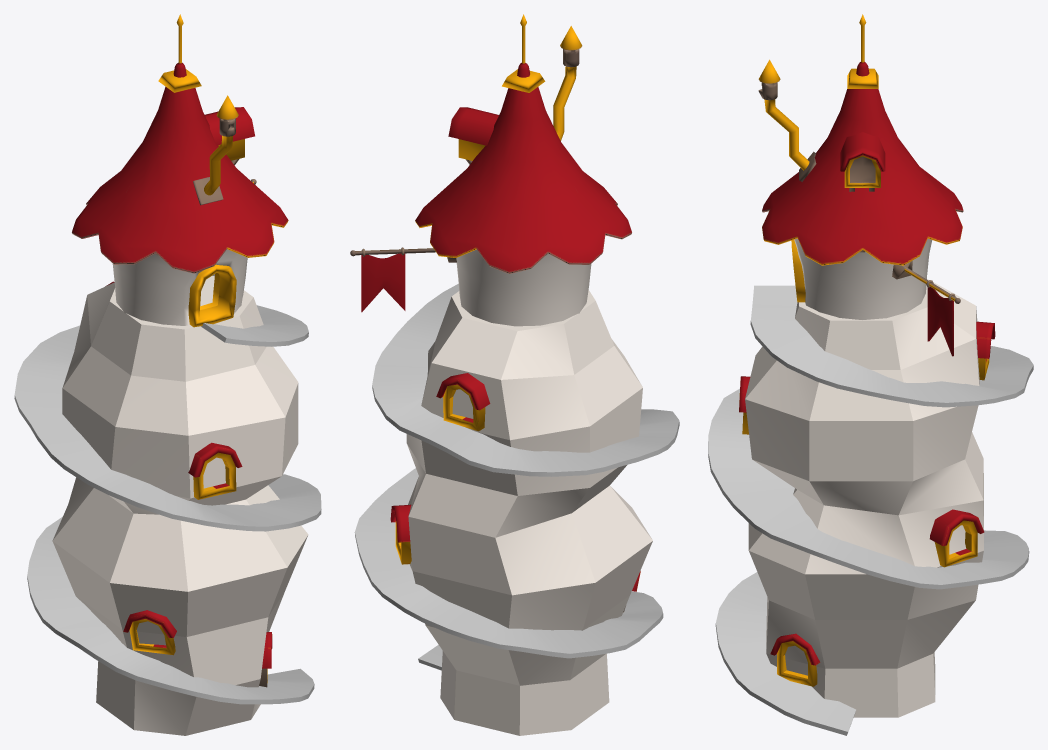
The model's file is tower level.fbx.
3 renders of one model, left to right at view 1: azimuth 30°, elevation 25°; view 2: azimuth 150°, elevation 25°; view 3: azimuth 270°, elevation 25°, orthographic. The views are drawn at different scales.
Visible parts, largest first — view 1: pCube1, Potion_Shop_Tower_usdz:Mesh, polySurface6, windows; view 2: pCube1, Potion_Shop_Tower_usdz:Mesh, polySurface6, windows; view 3: pCube1, polySurface6, Potion_Shop_Tower_usdz:Mesh, windows.
Part boxes in pixels (box(x1,y1,x2,y2)): pCube1: box(52, 276, 308, 735); Potion_Shop_Tower_usdz:Mesh: box(72, 14, 288, 327); polySurface6: box(14, 305, 321, 704); windows: box(105, 281, 272, 687); pCube1: box(406, 290, 652, 735); Potion_Shop_Tower_usdz:Mesh: box(350, 14, 631, 326); polySurface6: box(354, 284, 679, 670); windows: box(390, 373, 640, 612); pCube1: box(745, 279, 983, 717); polySurface6: box(708, 285, 1033, 735); Potion_Shop_Tower_usdz:Mesh: box(758, 14, 963, 356); windows: box(739, 321, 995, 686).
Size of the model in its own units: 62.41 by 153 by 67.23.
